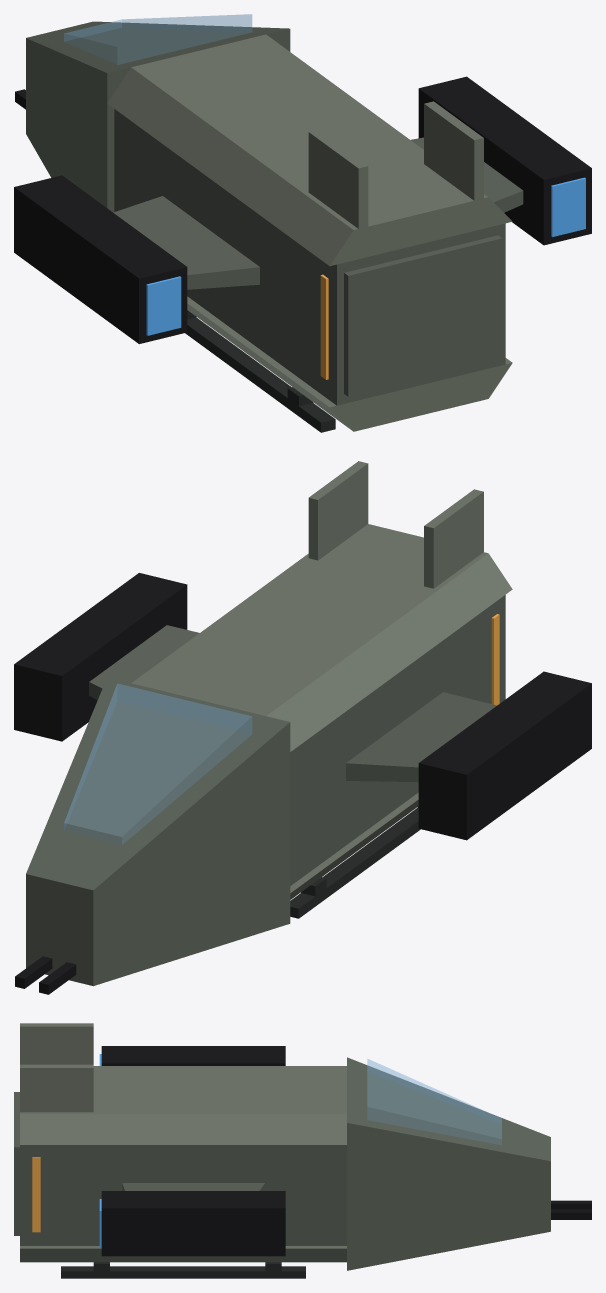
The model's file is ship_XS_DROPSHIP.obj.
3 views of the same model, one above another, from view 1: azimuth 30°, elevation 25°; view 2: azimuth 150°, elevation 25°; view 3: azimuth 270°, elevation 25° (orthographic). The views are drawn at different scales.
Parts seen in each view (by area): view 1: XS_DROPSHIP_Armor, XS_DROPSHIP_Hull-col, XS_DROPSHIP_Engines, XS_DROPSHIP_Ramp-col, XS_DROPSHIP_Glass-col, XS_DROPSHIP_EngineGlow, XS_DROPSHIP_Trim, XS_DROPSHIP_Lights; view 2: XS_DROPSHIP_Hull-col, XS_DROPSHIP_Armor, XS_DROPSHIP_Engines, XS_DROPSHIP_Glass-col, XS_DROPSHIP_Trim, XS_DROPSHIP_Lights; view 3: XS_DROPSHIP_Hull-col, XS_DROPSHIP_Armor, XS_DROPSHIP_Engines, XS_DROPSHIP_Glass-col, XS_DROPSHIP_Trim, XS_DROPSHIP_Ramp-col, XS_DROPSHIP_Lights.
Part boxes in pixels (left/top/right/bottom): XS_DROPSHIP_Armor: left=107, top=34, right=512, bottom=431; XS_DROPSHIP_Hull-col: left=26, top=21, right=523, bottom=405; XS_DROPSHIP_Engines: left=14, top=76, right=591, bottom=343; XS_DROPSHIP_Ramp-col: left=344, top=235, right=502, bottom=396; XS_DROPSHIP_Glass-col: left=64, top=14, right=251, bottom=64; XS_DROPSHIP_EngineGlow: left=146, top=177, right=585, bottom=335; XS_DROPSHIP_Trim: left=185, top=310, right=335, bottom=432; XS_DROPSHIP_Lights: left=320, top=274, right=328, bottom=379; XS_DROPSHIP_Hull-col: left=26, top=595, right=505, bottom=986; XS_DROPSHIP_Armor: left=131, top=461, right=512, bottom=899; XS_DROPSHIP_Engines: left=14, top=573, right=591, bottom=994; XS_DROPSHIP_Glass-col: left=64, top=684, right=251, bottom=844; XS_DROPSHIP_Trim: left=290, top=806, right=420, bottom=918; XS_DROPSHIP_Lights: left=491, top=614, right=499, bottom=705; XS_DROPSHIP_Hull-col: left=20, top=1057, right=550, bottom=1270; XS_DROPSHIP_Armor: left=20, top=1023, right=346, bottom=1262; XS_DROPSHIP_Engines: left=101, top=1046, right=591, bottom=1256; XS_DROPSHIP_Glass-col: left=367, top=1059, right=501, bottom=1144; XS_DROPSHIP_Trim: left=61, top=1262, right=305, bottom=1278; XS_DROPSHIP_Ramp-col: left=14, top=1092, right=19, bottom=1235; XS_DROPSHIP_Lights: left=32, top=1157, right=40, bottom=1232.
Size of the model in its own units: 9.4 by 5.6 by 14.15.
